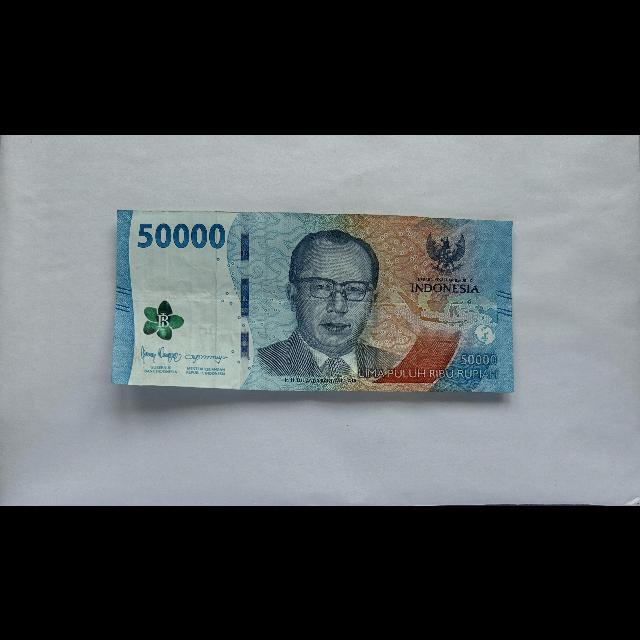Asli-50k: (110, 208, 516, 395)
Tinta-Asli-50k: (143, 298, 185, 340)
